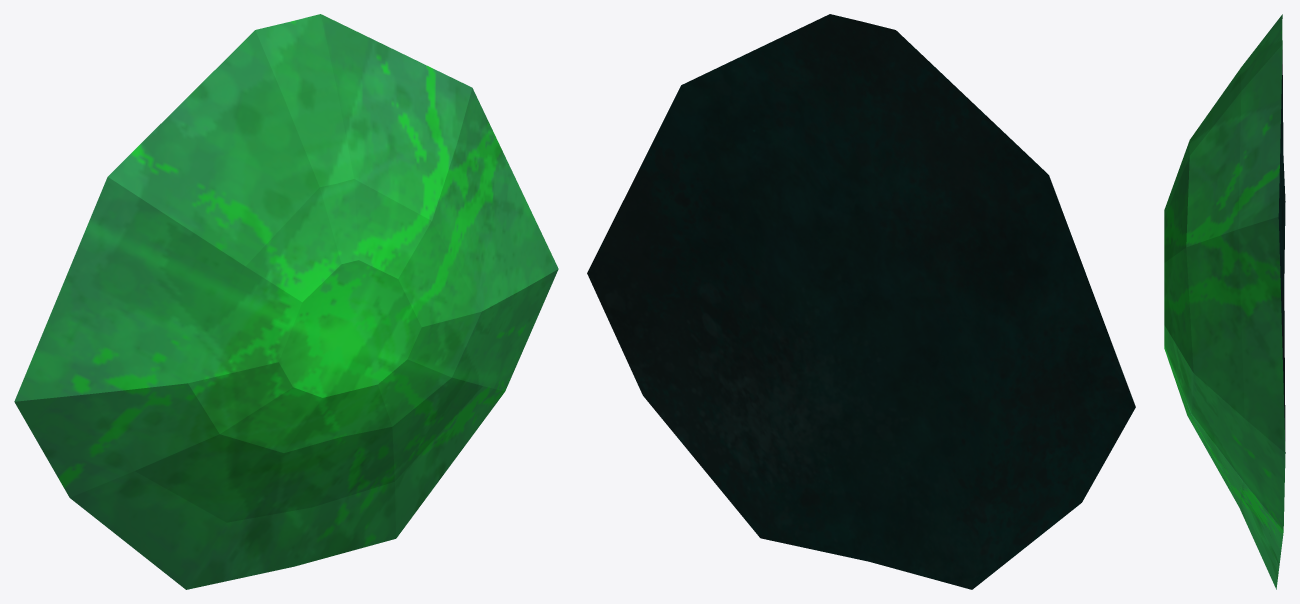
File: MOD_L2_Crystal02.fbx
3 renders of one model, left to right at view 1: azimuth 30°, elevation 25°; view 2: azimuth 150°, elevation 25°; view 3: azimuth 270°, elevation 25°, orthographic. The views are drawn at different scales.
Parts seen in each view (by area): view 1: Plane.006; view 2: Plane.006; view 3: Plane.006.
Part boxes in pixels (x1,y1,x2,y2): Plane.006: (14,14,558,589); Plane.006: (587,14,1135,589); Plane.006: (1164,14,1285,589).
Bounding box in the file's own units: 4.68 × 4.44 × 0.9505.
